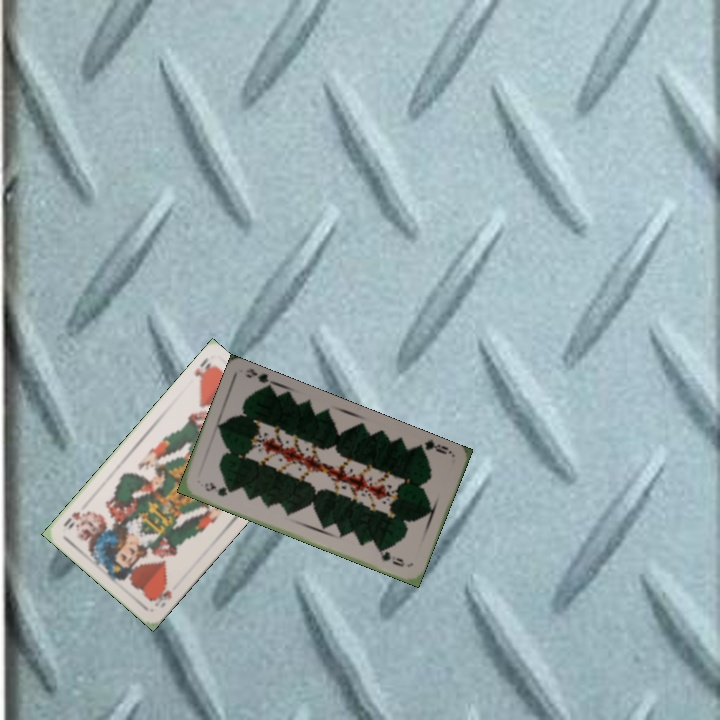G9: (413, 436, 454, 457), (200, 479, 234, 499)
HO: (147, 582, 174, 611), (191, 354, 214, 388)
